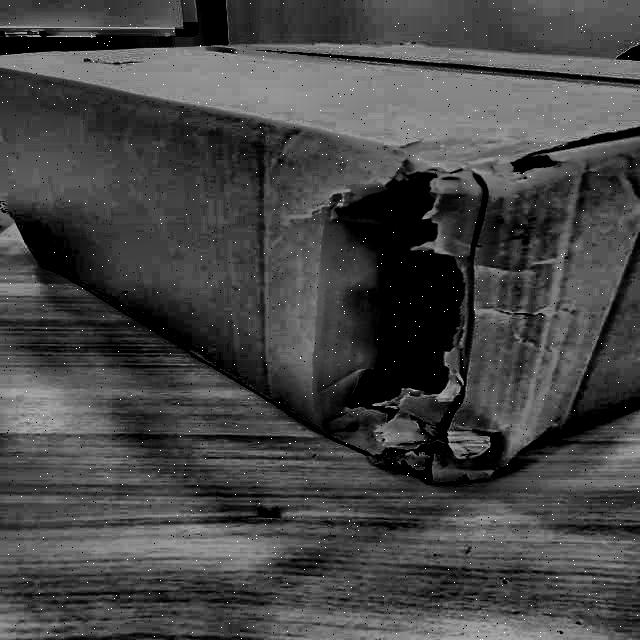box: (0, 19, 639, 497)
hole: (317, 156, 496, 458)
